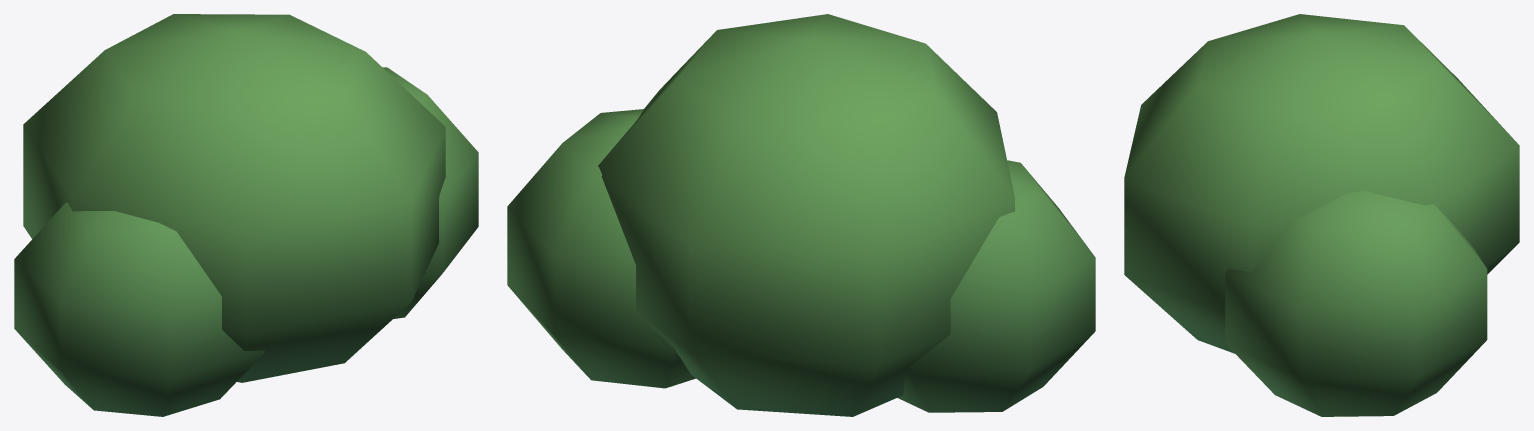
The model's file is bush_small.glb.
The picture shows the model from 3 angles, left to right: view 1: azimuth 30°, elevation 25°; view 2: azimuth 150°, elevation 25°; view 3: azimuth 270°, elevation 25°; orthographic projection. The views are drawn at different scales.
Visible parts, largest first — view 1: bush_small; view 2: bush_small; view 3: bush_small.
Boxes of the visible parts, x1,y1,x2,y2 form: bush_small: (14,14,478,416); bush_small: (507,14,1095,416); bush_small: (1124,14,1519,416).
Bounding box in the file's own units: 0.6377 × 0.44 × 0.5031.
